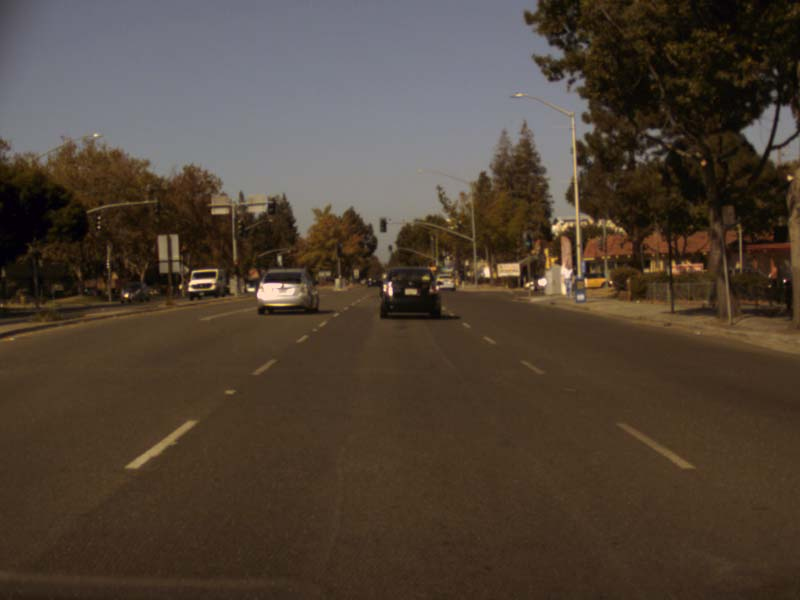Green: (525, 234, 532, 247), (380, 218, 386, 233), (475, 249, 480, 258), (440, 261, 444, 268), (388, 245, 391, 252)
Red: (233, 261, 238, 275)
